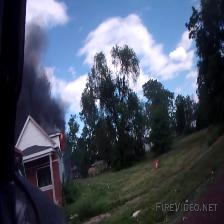smoke: (16, 23, 81, 141)
